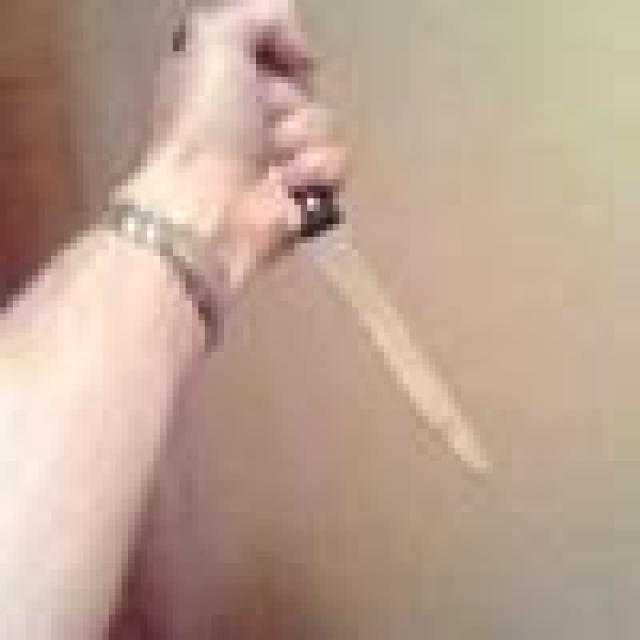senjata_tajam: (296, 186, 499, 490)
